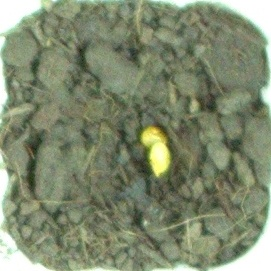chilli seed: (147, 141, 174, 179), (138, 124, 171, 150)
